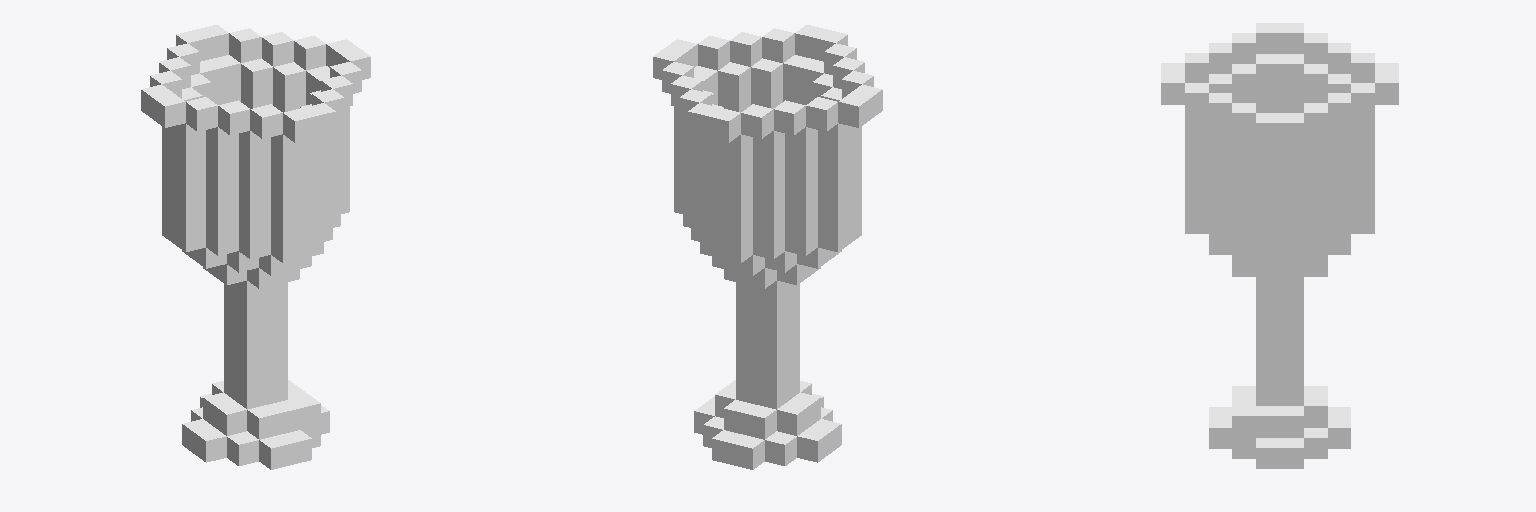
Rendered from glassempty.obj.
The picture shows the model from 3 angles: view 1: azimuth 30°, elevation 25°; view 2: azimuth 150°, elevation 25°; view 3: azimuth 270°, elevation 25°; orthographic projection.
Visible parts, largest first — view 1: object 1; view 2: object 1; view 3: object 1.
Boxes of the visible parts, box(x1,y1,x2,y2) form: object 1: box(141, 25, 370, 469); object 1: box(653, 25, 882, 469); object 1: box(1161, 23, 1398, 468).
Bounding box in the file's own units: 1 × 1.7 × 1.